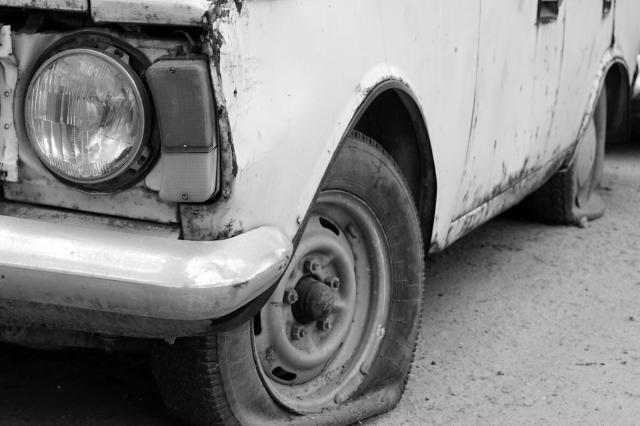Light: (0, 28, 225, 204)
